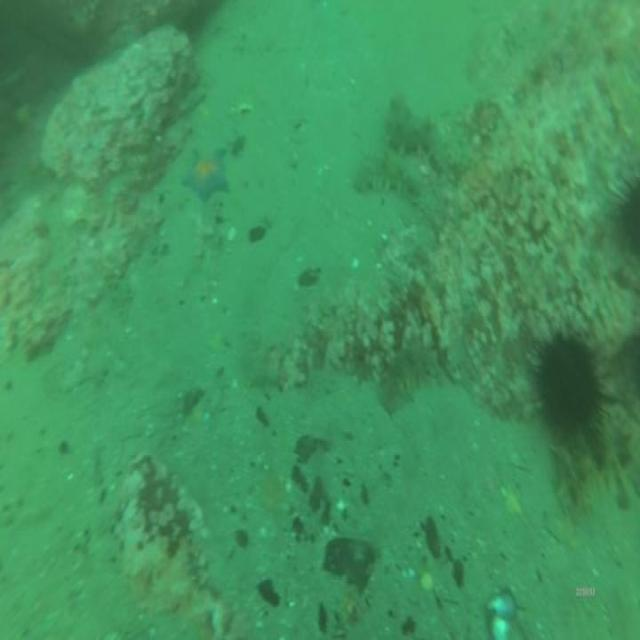echinus: (526, 313, 610, 453), (610, 163, 640, 275)
holothurian: (546, 402, 640, 511), (377, 335, 443, 419), (355, 147, 432, 207), (382, 87, 446, 158), (428, 138, 482, 186)
starfish: (179, 144, 233, 208)
